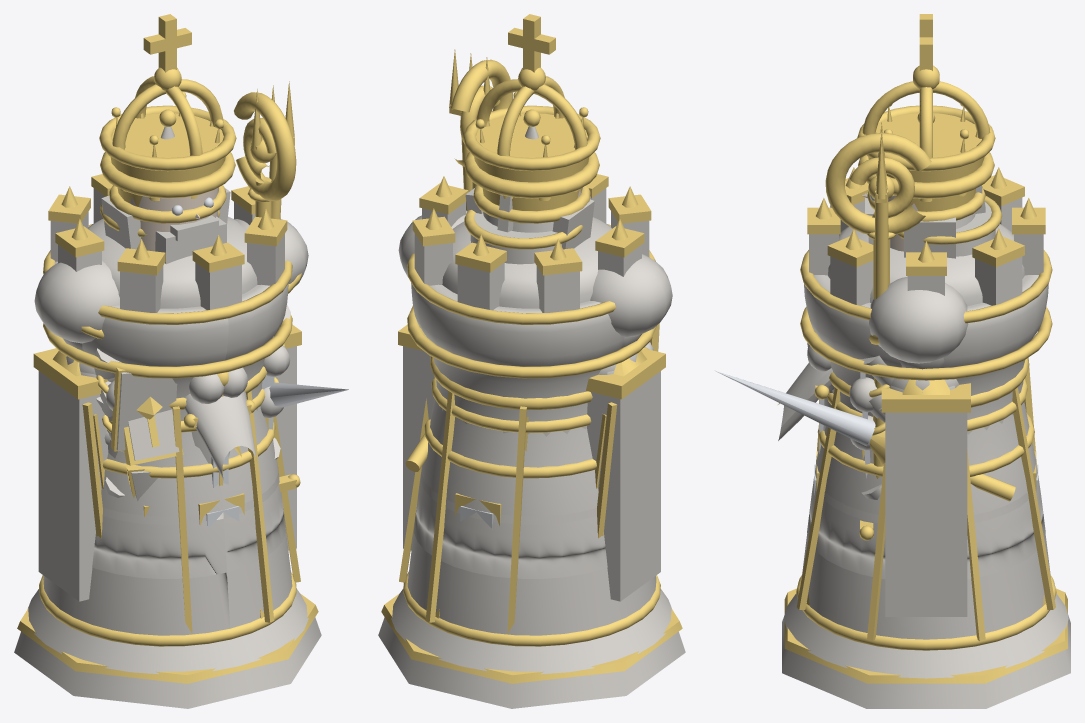
Rendered from arcane_pieces.glb.
3 renders of one model, left to right at view 1: azimuth 30°, elevation 25°; view 2: azimuth 150°, elevation 25°; view 3: azimuth 270°, elevation 25°, orthographic.
Parts seen in each view (by area): view 1: body (×6), gold (×5), face, steel; view 2: body (×4), gold (×6); view 3: body (×5), gold (×6), steel.
Boxes of the visible parts, x1=… form: body (×6): x1=14, y1=126, x2=321, y2=708; gold (×5): x1=17, y1=14, x2=318, y2=683; face: x1=130, y1=187, x2=218, y2=251; steel: x1=269, y1=382, x2=348, y2=407; body (×4): x1=378, y1=188, x2=685, y2=708; gold (×6): x1=381, y1=14, x2=682, y2=683; body (×5): x1=778, y1=185, x2=1070, y2=708; gold (×6): x1=778, y1=14, x2=1067, y2=683; steel: x1=715, y1=371, x2=875, y2=446.
Size of the model in its own units: 0.815 by 1.87 by 0.958.
